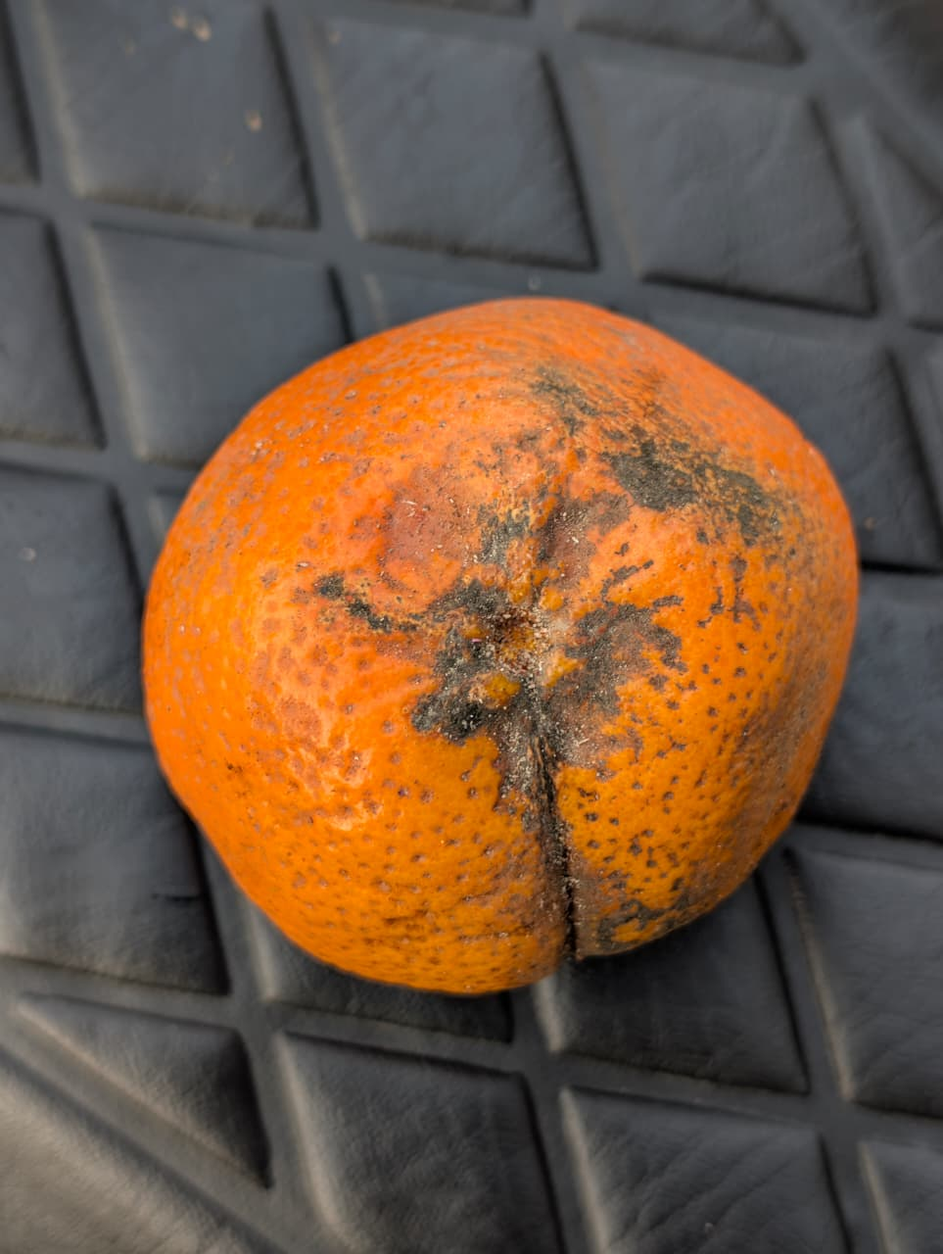orange: (203, 0, 786, 1125)
